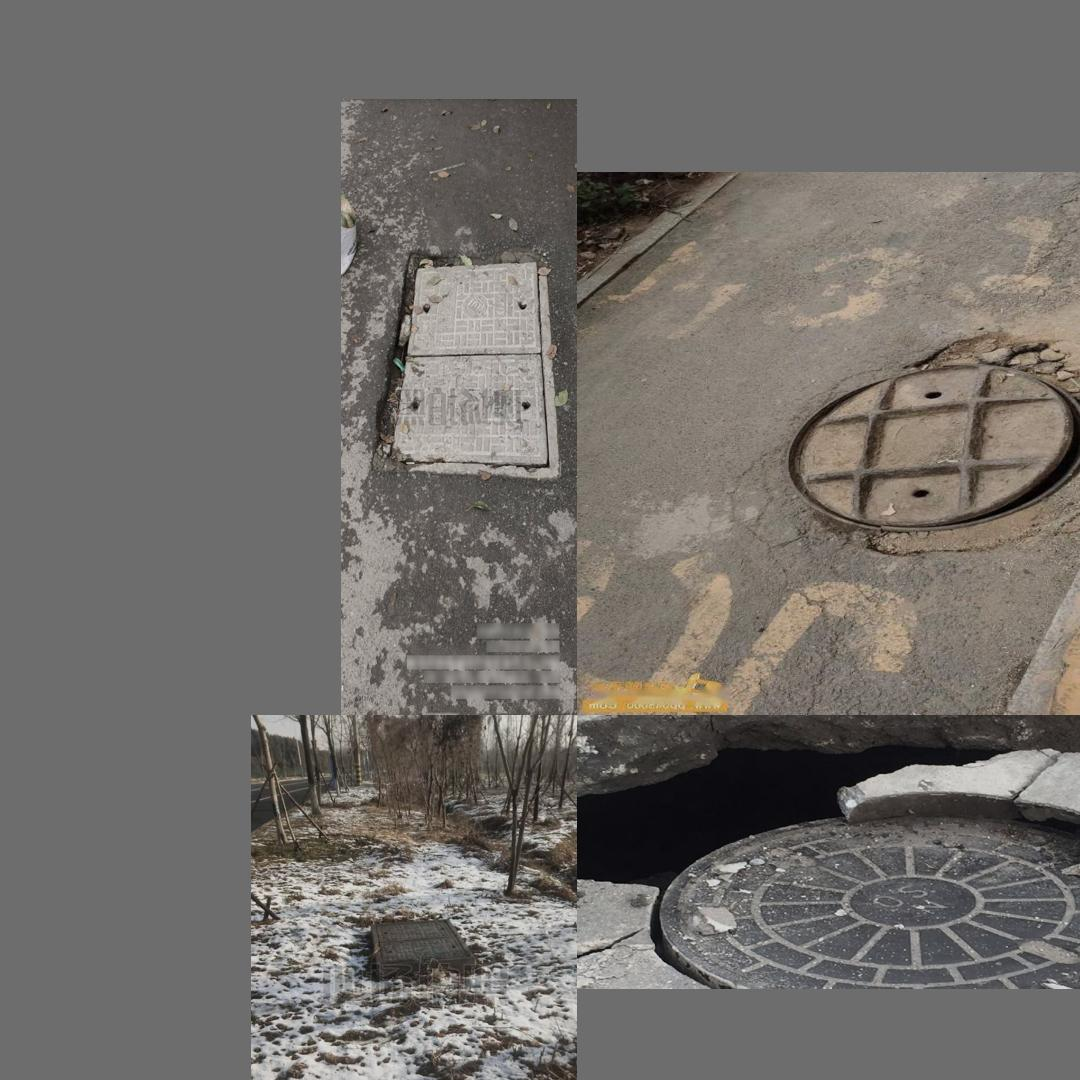circle: (588, 725, 1080, 985), (736, 328, 1080, 570), (370, 252, 557, 478), (366, 918, 482, 984)
